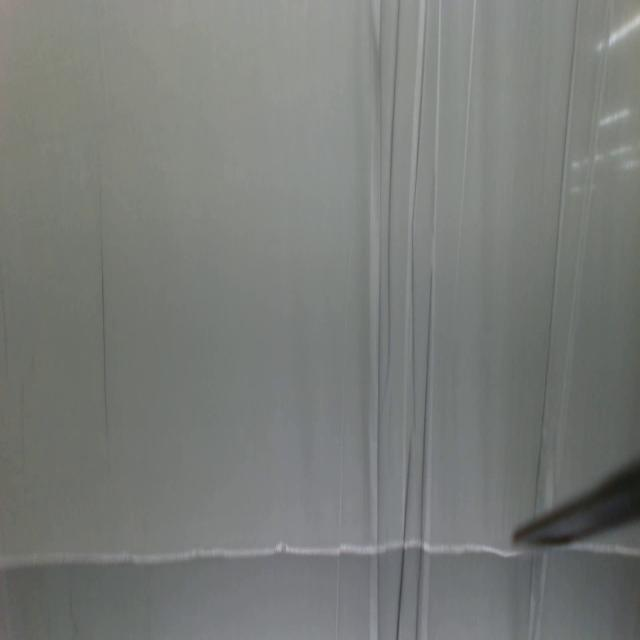crease: (367, 0, 444, 636), (532, 0, 614, 484), (96, 210, 117, 440), (334, 445, 346, 640)
